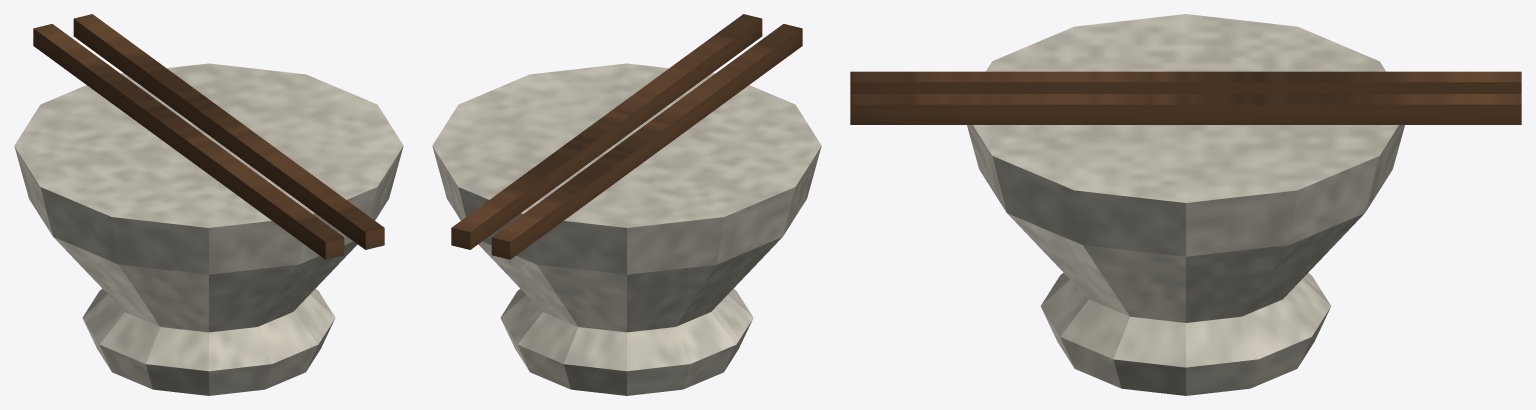
Rendered from rice_bowl.fbx.
3 views of the same model, side by side, from view 1: azimuth 30°, elevation 25°; view 2: azimuth 150°, elevation 25°; view 3: azimuth 270°, elevation 25° (orthographic). The views are drawn at different scales.
Visible parts, largest first — view 1: rice_bowl; view 2: rice_bowl; view 3: rice_bowl.
Part boxes in pixels (box(x1,y1,x2,y2)): rice_bowl: box(14, 14, 403, 395); rice_bowl: box(432, 14, 821, 395); rice_bowl: box(850, 14, 1521, 395).
Bounding box in the file's own units: 16 × 10 × 24.
